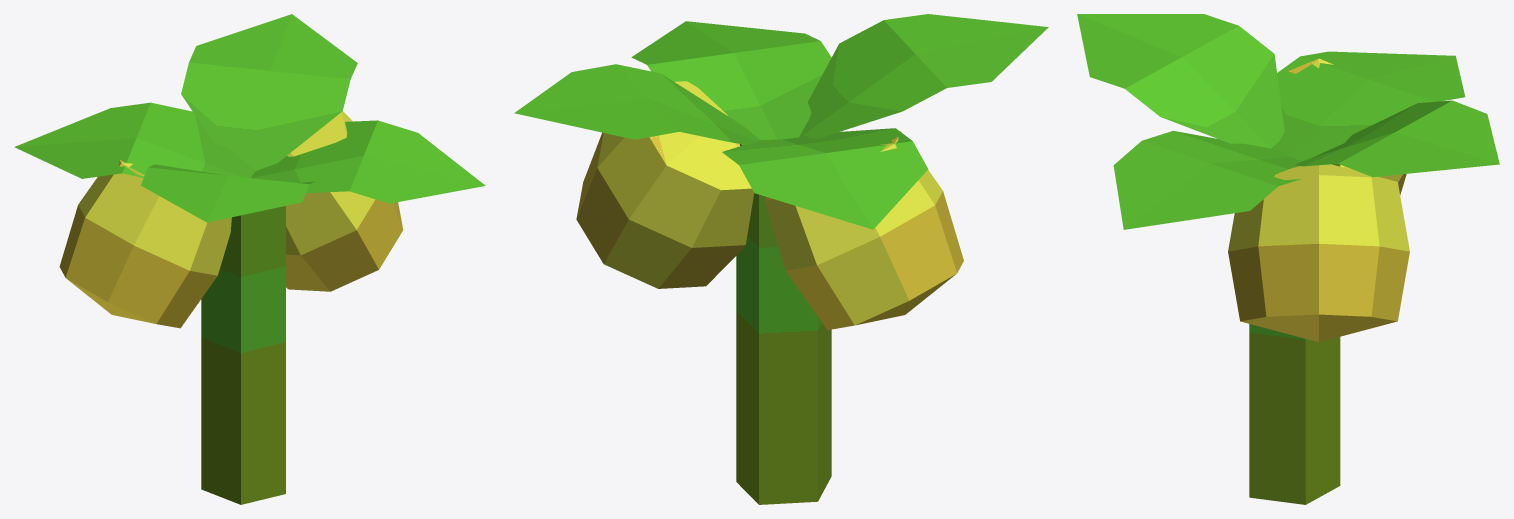
The model's file is Tomato_001-3.fbx.
3 renders of one model, left to right at view 1: azimuth 30°, elevation 25°; view 2: azimuth 150°, elevation 25°; view 3: azimuth 270°, elevation 25°, orthographic. The views are drawn at different scales.
Visible parts, largest first — view 1: Tomato_001-3; view 2: Tomato_001-3; view 3: Tomato_001-3.
Part boxes in pixels (<box>): Tomato_001-3: <box>14,14,485,504</box>; Tomato_001-3: <box>514,14,1048,504</box>; Tomato_001-3: <box>1077,14,1499,504</box>.
Bounding box in the file's own units: 28.56 × 30.3 × 29.04.
Materials: 1 (1 with a texture image).
